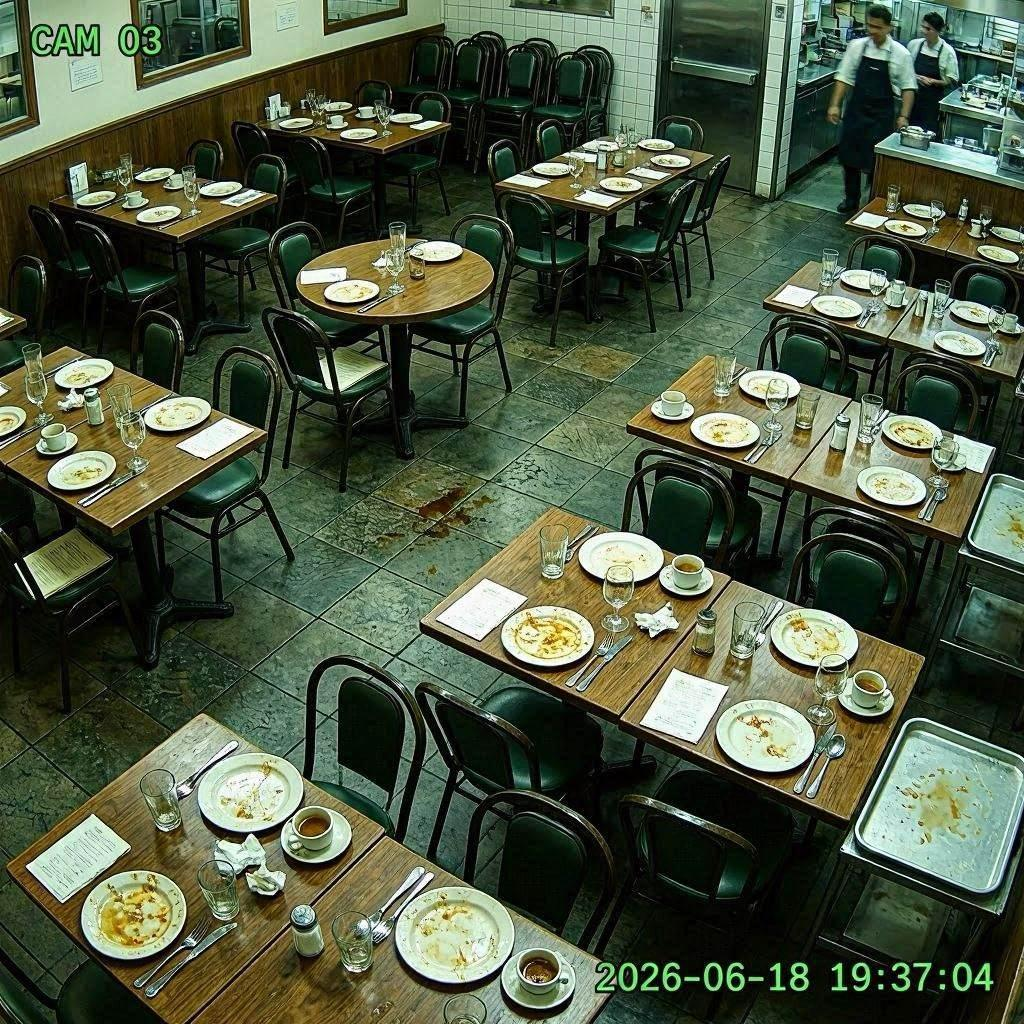dirty: (17, 710, 614, 1024), (437, 529, 894, 815), (650, 346, 985, 523), (18, 315, 258, 553), (275, 204, 503, 340), (506, 92, 722, 223), (55, 153, 274, 250), (264, 83, 464, 153)
